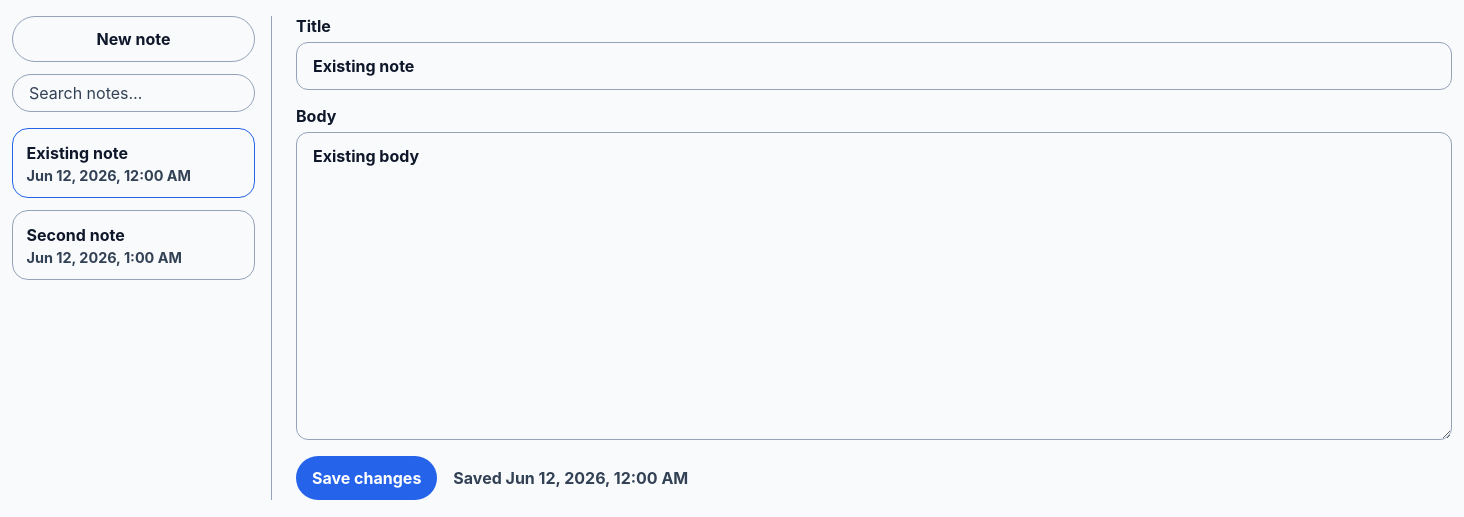
NoteEditor › search › shows error message on network failure
Type "fail" into the search field named "Search notes by title or body". click: {"x": 134, "y": 93}
box: [12,74,255,112]
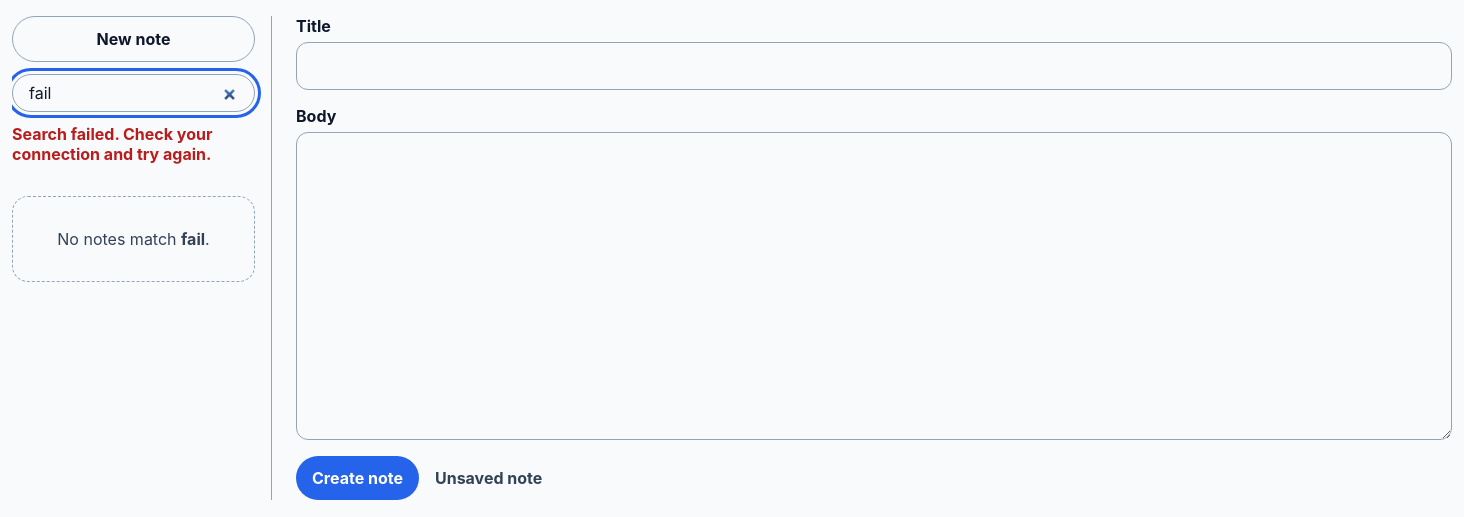
Check: the message "Search failed. Check your connection and try again." is shown, box [12,124,212,164]
